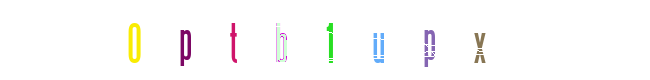0: (94, 0, 174, 80)
1: (286, 0, 366, 80)
B: (267, 0, 347, 80)
P: (94, 0, 174, 80), (339, 0, 419, 80)
T: (165, 0, 245, 80)
U: (290, 0, 370, 80)
X: (400, 0, 480, 80)
